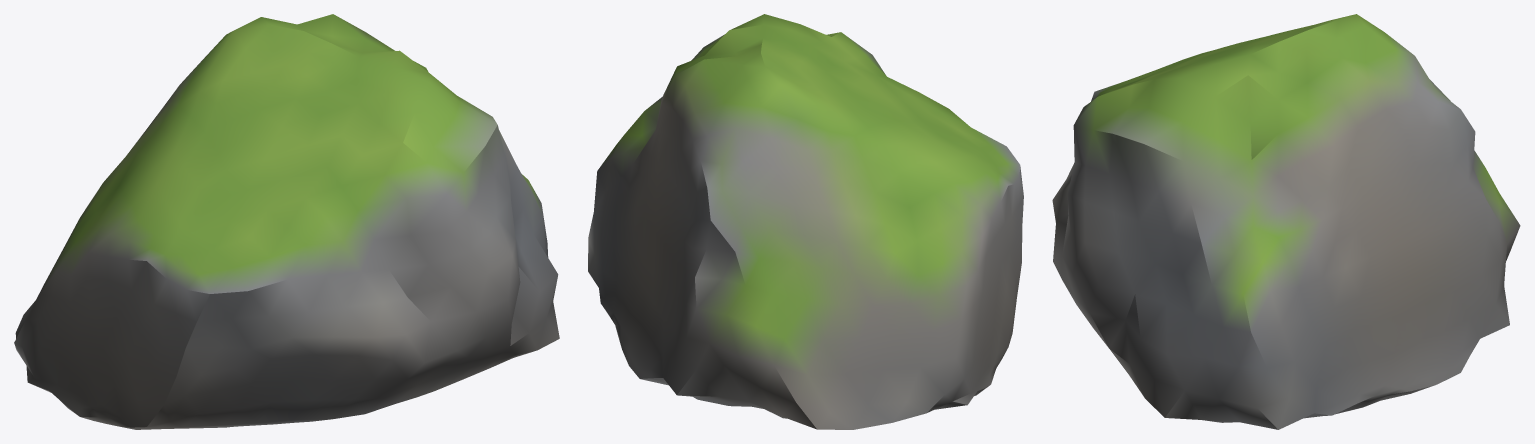
Rendered from Rock_B.fbx.
The picture shows the model from 3 angles, left to right: view 1: azimuth 30°, elevation 25°; view 2: azimuth 150°, elevation 25°; view 3: azimuth 270°, elevation 25°; orthographic projection. The views are drawn at different scales.
Parts seen in each view (by area): view 1: Rock_B; view 2: Rock_B; view 3: Rock_B.
Part boxes in pixels (left/top/right/bottom): Rock_B: left=14, top=14, right=559, bottom=429; Rock_B: left=588, top=14, right=1023, bottom=429; Rock_B: left=1052, top=14, right=1520, bottom=429.
Bounding box in the file's own units: 2.59 × 1.82 × 2.25.
